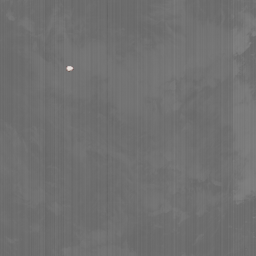Target: (65, 64, 74, 70)
